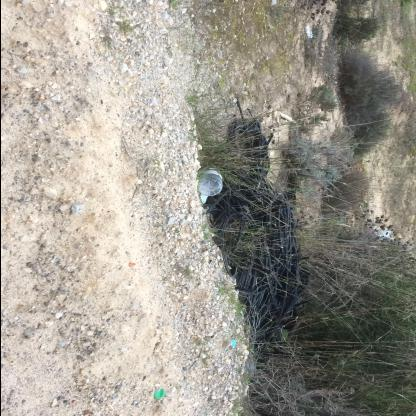plastik: (198, 168, 224, 198), (154, 389, 166, 401), (230, 340, 236, 348)
